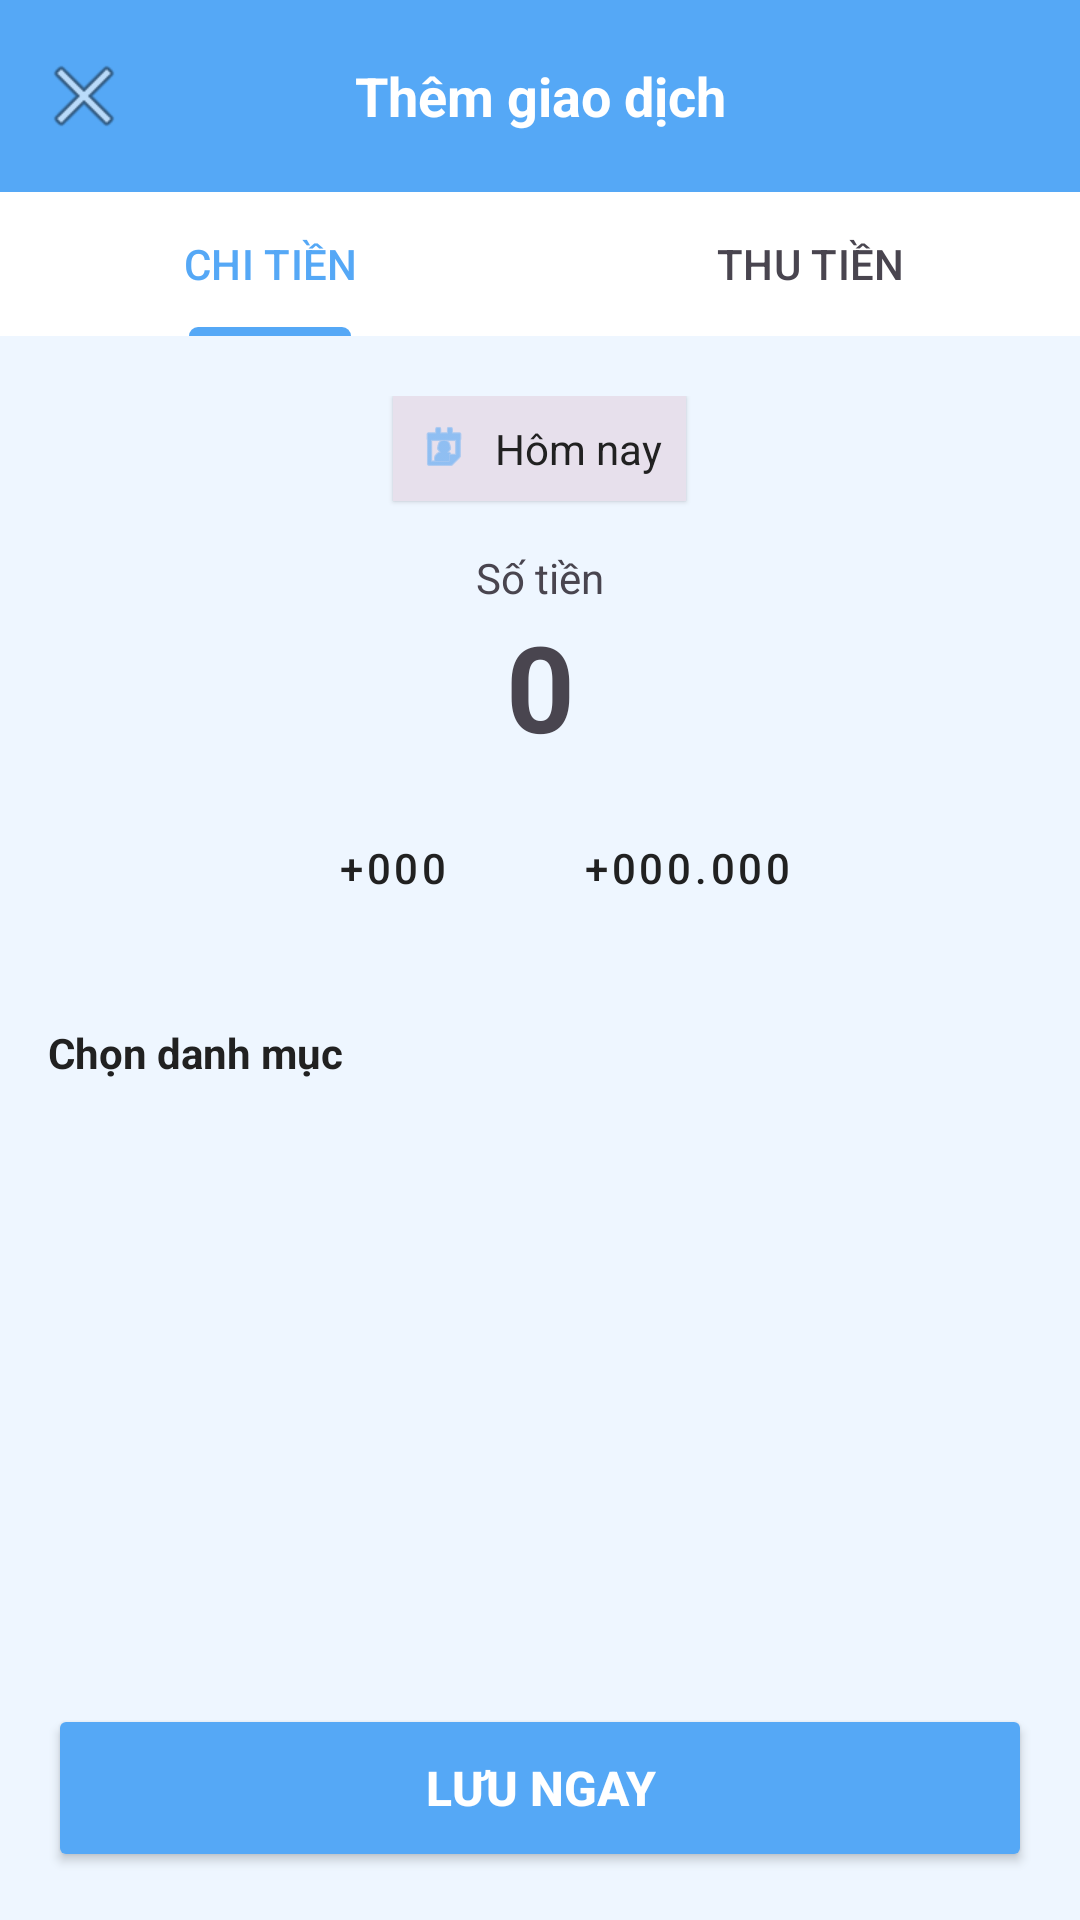

Screen size 1080*1920. Icon name, then its box in pixels as (x1, y1, x2, y2):
calendar: (427, 427, 461, 466)
